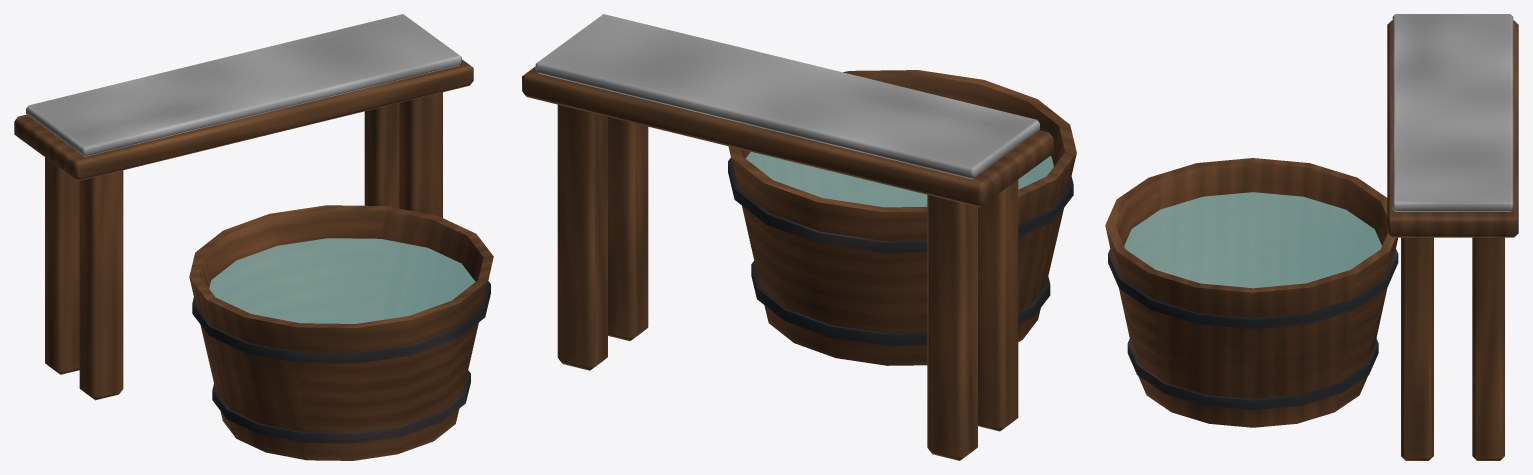
Rendered from Furn_Place_FootBath.fbx.
3 renders of one model, left to right at view 1: azimuth 30°, elevation 25°; view 2: azimuth 150°, elevation 25°; view 3: azimuth 270°, elevation 25°, orthographic. The views are drawn at different scales.
Visible parts, largest first — view 1: Furn_Place_FootBath, Water; view 2: Furn_Place_FootBath, Water; view 3: Furn_Place_FootBath, Water.
Part boxes in pixels (x1=…): Furn_Place_FootBath: x1=14, y1=14, x2=493, y2=460; Water: x1=209, y1=238, x2=475, y2=323; Furn_Place_FootBath: x1=522, y1=14, x2=1076, y2=460; Water: x1=746, y1=152, x2=1053, y2=207; Furn_Place_FootBath: x1=1105, y1=14, x2=1518, y2=460; Water: x1=1124, y1=192, x2=1381, y2=288.
Size of the model in its own units: 0.8 by 0.5 by 0.7.
Materials: 4 (3 with a texture image).
